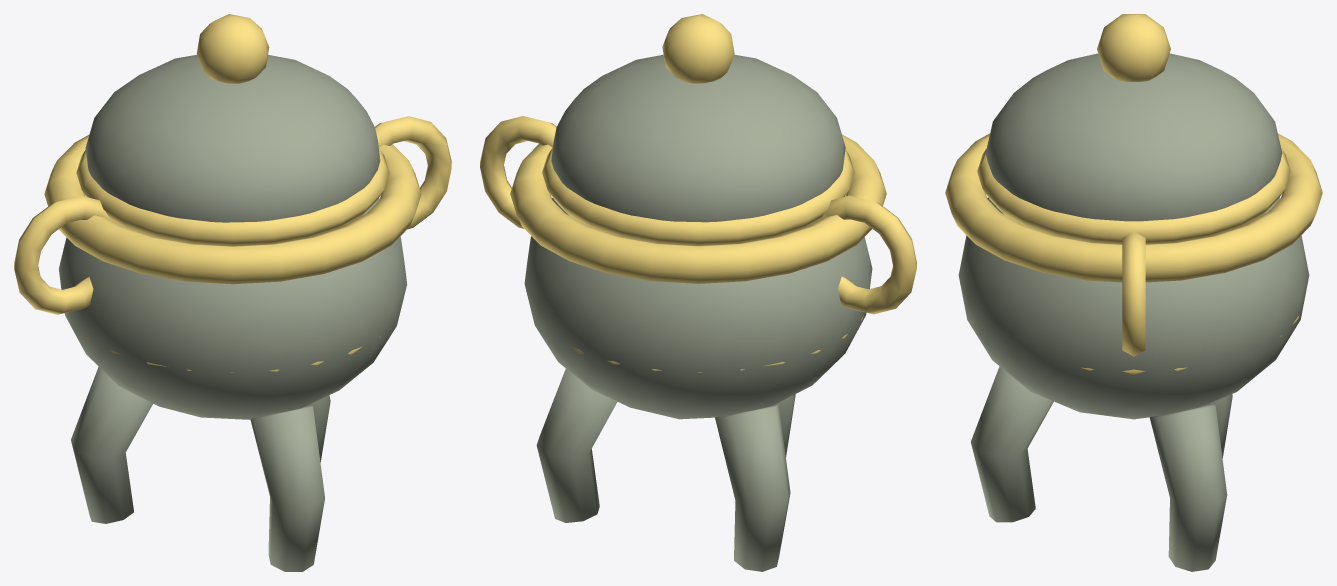
Rendered from censer.glb.
3 views of the same model, side by side, from view 1: azimuth 30°, elevation 25°; view 2: azimuth 150°, elevation 25°; view 3: azimuth 270°, elevation 25° (orthographic).
Visible parts, largest first — view 1: Bowl, Lid, Rim, Leg2, LidRim, Leg1, Handle, Knob, Handle.001, Leg0; view 2: Bowl, Lid, Rim, Leg1, LidRim, Leg0, Handle, Knob, Handle.001, Leg2; view 3: Bowl, Lid, Rim, Leg0, LidRim, Leg2, Knob, Handle.001, Leg1.
Part boxes in pixels (<box>): Bowl: <box>59,198,407,419</box>; Lid: <box>85,55,380,222</box>; Rim: <box>44,135,421,284</box>; Leg2: <box>250,405,324,571</box>; LidRim: <box>76,147,389,246</box>; Leg1: <box>71,367,152,523</box>; Handle: <box>14,196,110,314</box>; Knob: <box>196,14,269,83</box>; Handle.001: <box>375,116,451,229</box>; Leg0: <box>308,395,330,462</box>; Bowl: <box>524,198,872,419</box>; Lid: <box>551,54,845,222</box>; Rim: <box>510,134,886,283</box>; Leg1: <box>715,404,790,571</box>; LidRim: <box>542,147,854,245</box>; Leg0: <box>536,368,617,522</box>; Handle: <box>820,195,916,314</box>; Knob: <box>662,14,734,83</box>; Handle.001: <box>480,116,556,228</box>; Leg2: <box>775,394,795,456</box>; Bowl: <box>958,197,1309,419</box>; Lid: <box>985,53,1282,221</box>; Rim: <box>945,133,1322,282</box>; Leg0: <box>1149,404,1227,571</box>; LidRim: <box>977,148,1290,244</box>; Leg2: <box>971,366,1053,522</box>; Knob: <box>1097,14,1170,81</box>; Handle.001: <box>1122,231,1145,356</box>; Leg1: <box>1208,394,1232,458</box>.
Bounding box in the file's own units: 1.5 × 1.64 × 1.12.
